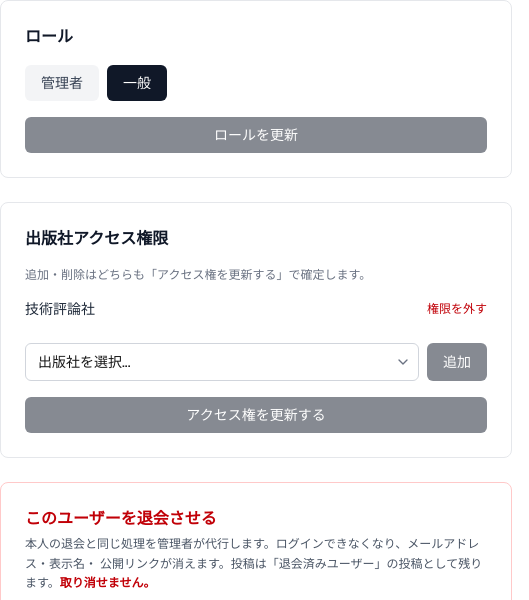
Test: AdminUserEditor › 出版社アクセスの追加 › 確定すると一覧に追加される
The width and height of the screenshot is (529, 600).
Select "オライリー" in the dropdown: {"x": 222, "y": 362} left=25, top=343, right=419, bottom=381
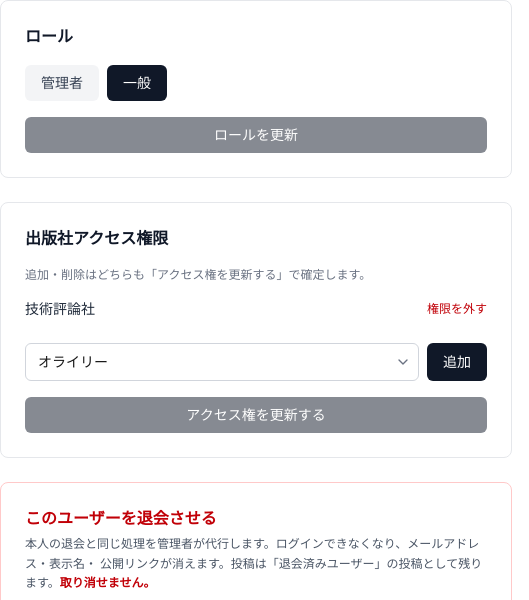
Click the button "追加": {"x": 457, "y": 362} left=427, top=343, right=487, bottom=381
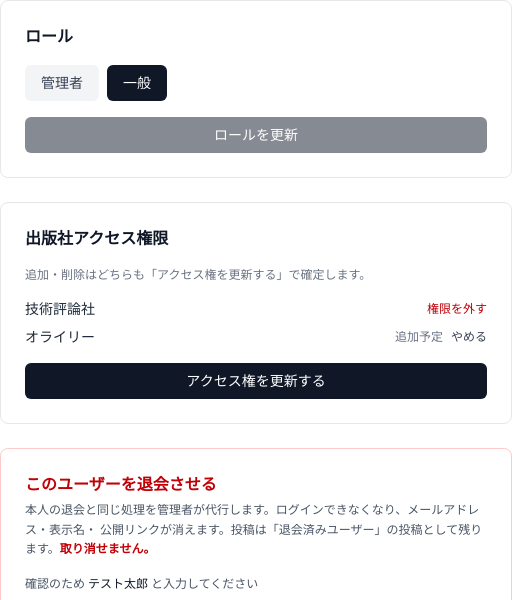
Click the button "アクセス権を更新する": {"x": 256, "y": 381} left=25, top=363, right=487, bottom=399
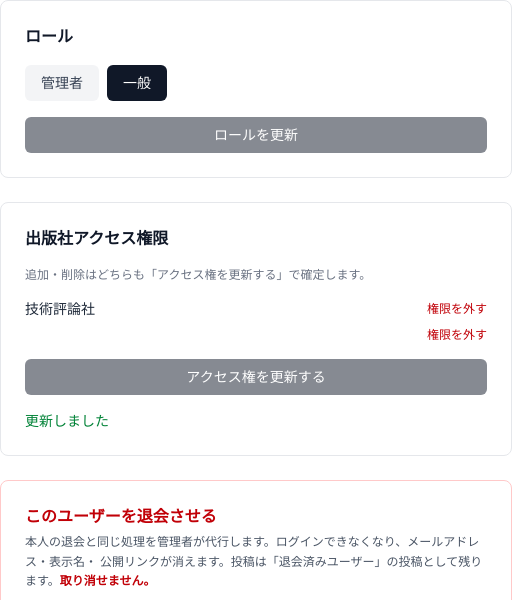
Now the number of list items is 2, box left=25, top=299, right=487, bottom=319; left=427, top=327, right=487, bottom=343
Now the text "更新しました" is shown, box left=25, top=412, right=109, bottom=430
